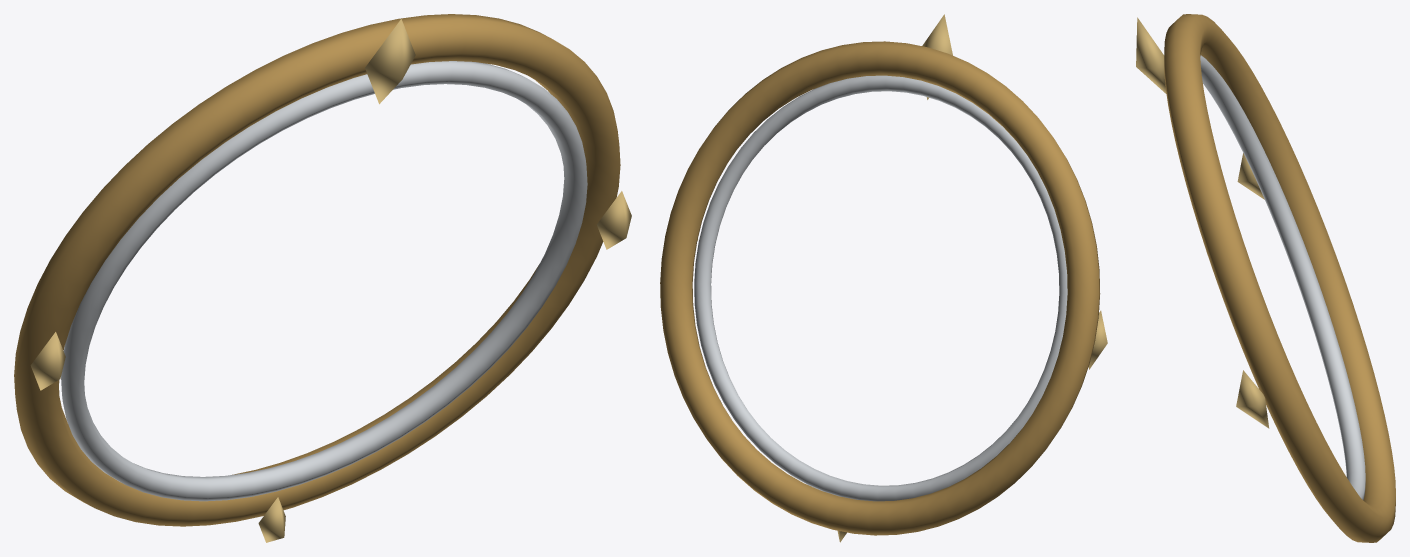
File: priest_halo.glb
The picture shows the model from 3 angles, left to right: view 1: azimuth 30°, elevation 25°; view 2: azimuth 150°, elevation 25°; view 3: azimuth 270°, elevation 25°; orthographic projection. The views are drawn at different scales.
Visible parts, largest first — view 1: PriestHalo; view 2: PriestHalo; view 3: PriestHalo.
Part boxes in pixels (bbox=[...]): PriestHalo: bbox=[14, 14, 631, 542]; PriestHalo: bbox=[660, 14, 1107, 542]; PriestHalo: bbox=[1136, 14, 1395, 542].
Size of the model in its own units: 0.7372 by 0.7364 by 0.3346.
